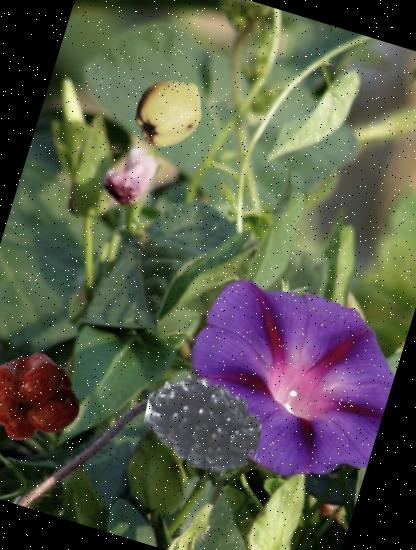Mulberry: (129, 350, 276, 498)
Pepper: (0, 341, 88, 455)
Quince: (124, 66, 216, 158)
